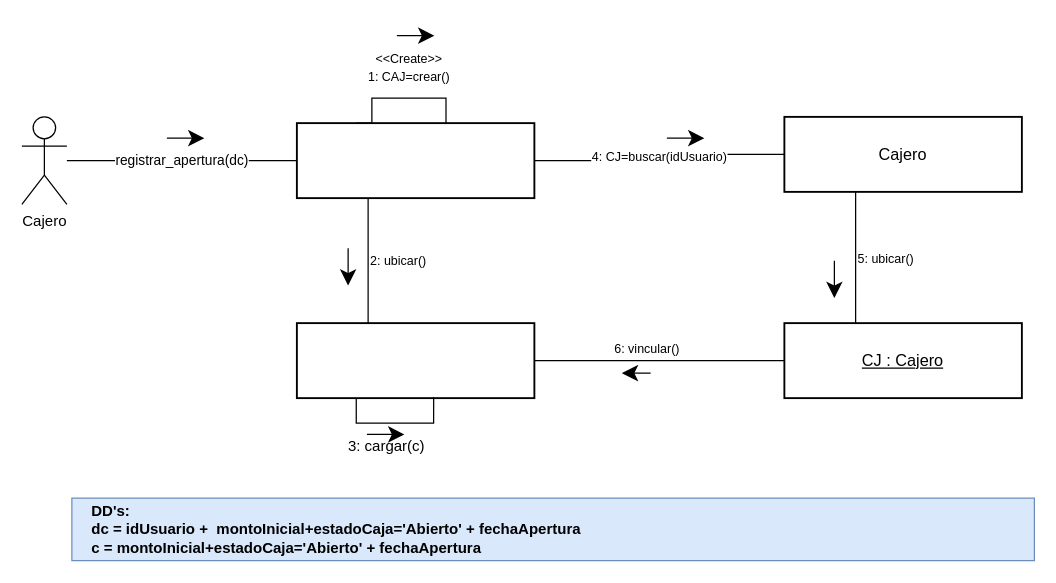
This 1056x583 diagram has some shape labels left out. Each missing label, with the centre of its shape:
"CAJ : Caja" belongs at point (415, 360).
"Caja" belongs at point (415, 160).
